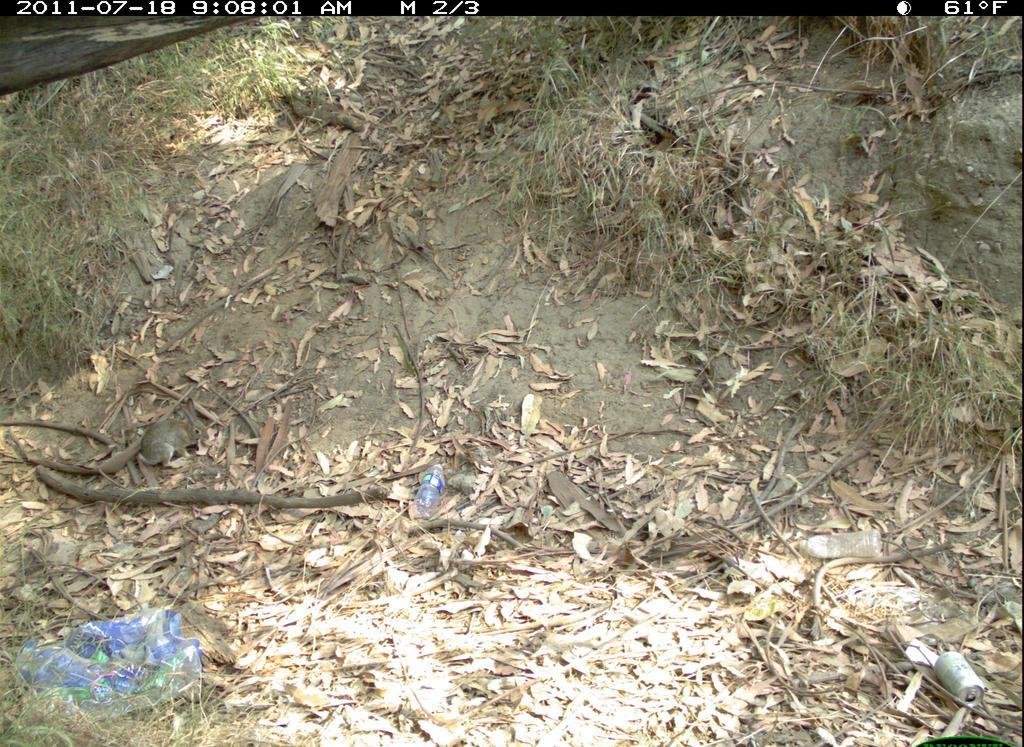rabbit: (132, 393, 213, 474)
